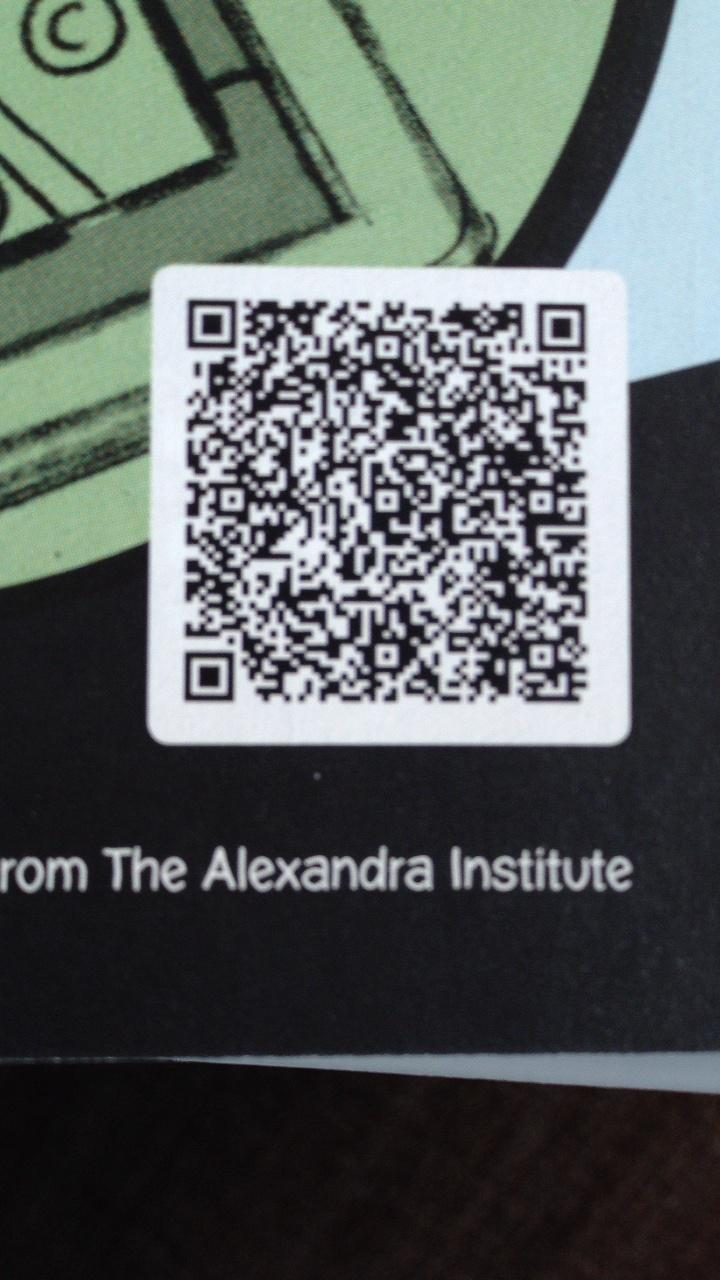Finder pattern: (175, 289, 246, 358), (527, 293, 595, 361), (178, 644, 241, 710)
